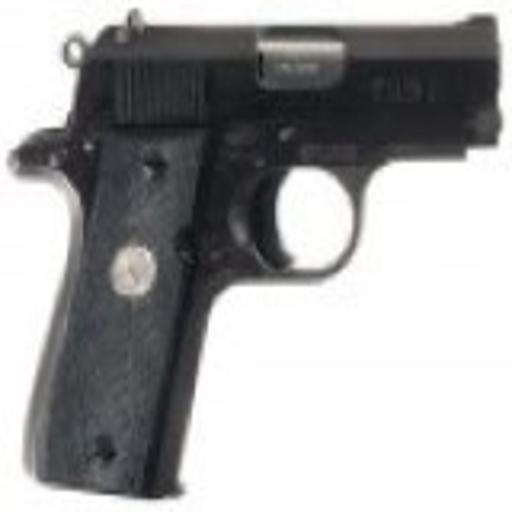Handgun: (8, 3, 504, 498)
